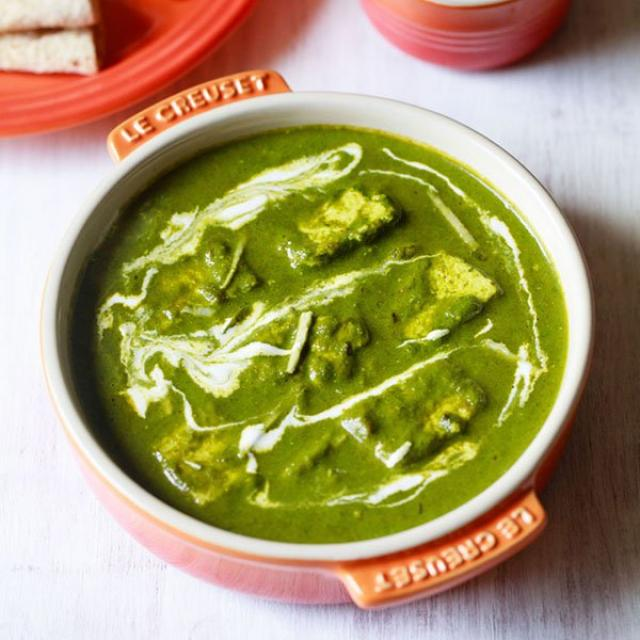Palak Paneer: (66, 127, 570, 555)
